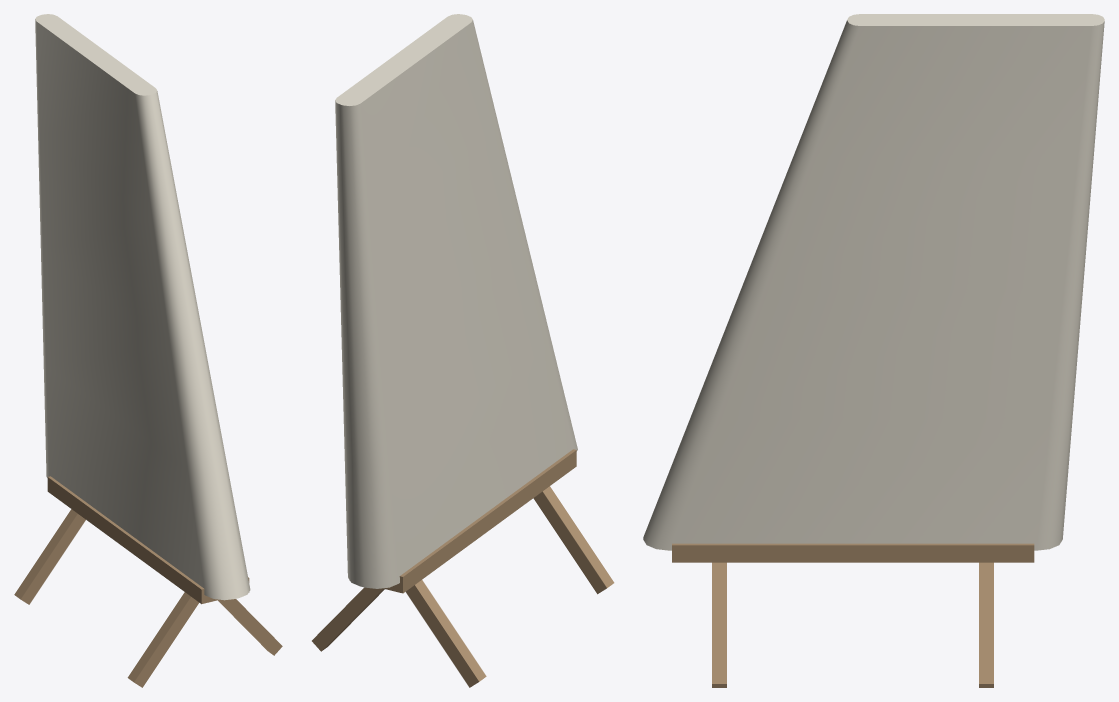
The model's file is steampunk-airship-dock-and-workshop-airship-fin-panel-895a27f1__36045.glb.
3 views of the same model, side by side, from view 1: azimuth 30°, elevation 25°; view 2: azimuth 150°, elevation 25°; view 3: azimuth 270°, elevation 25° (orthographic). The views are drawn at different scales.
Visible parts, largest first — view 1: airship-fin-panel; view 2: airship-fin-panel; view 3: airship-fin-panel.
Boxes of the visible parts, x1,y1,x2,y2 form: airship-fin-panel: (14, 14, 282, 687); airship-fin-panel: (312, 14, 614, 687); airship-fin-panel: (643, 14, 1104, 687).
Bounding box in the file's own units: 1.06 × 3.65 × 2.42.
